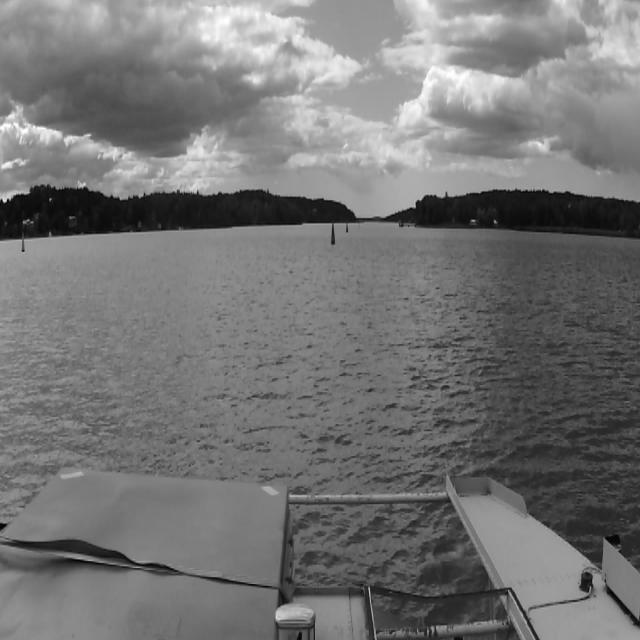buoy: (330, 223, 336, 245), (21, 233, 26, 250), (345, 218, 349, 235)
